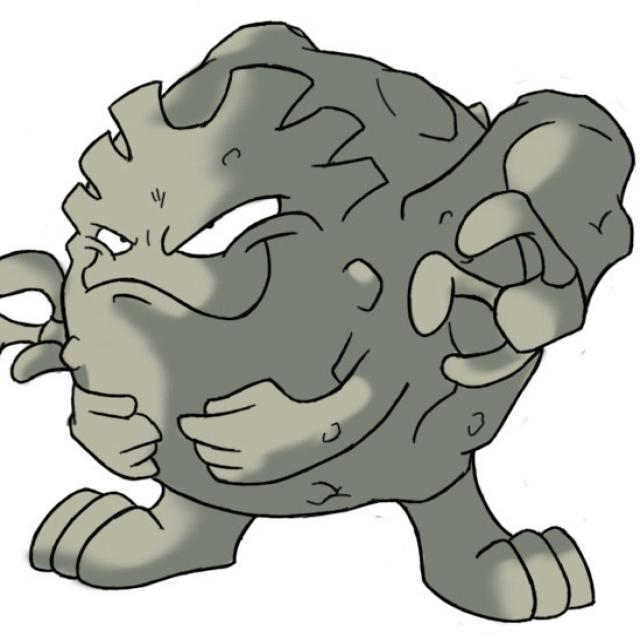Graveler: (29, 16, 635, 594)
